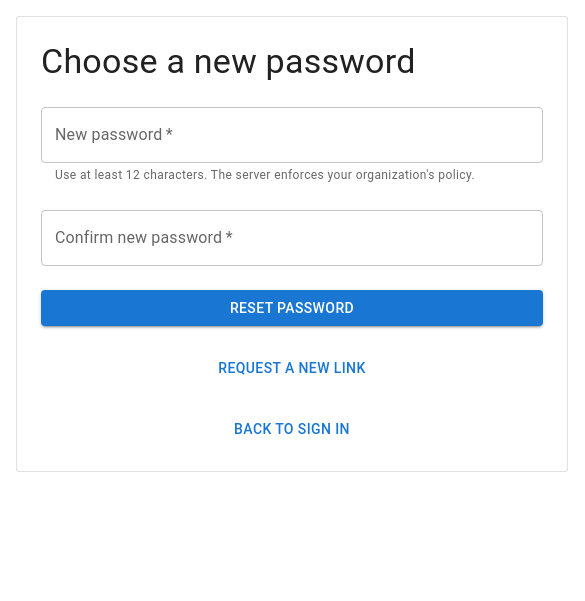
Test: PRD-02-TC-06/PRD-60-TC-07 recovery acknowledgment safety › password reset preserves recoverable details after a malformed success
The image size is (585, 601).
Type "new-correct-horse-battery" into the password field labelled "New password *" at x=292, y=135, box [41,107,543,163]
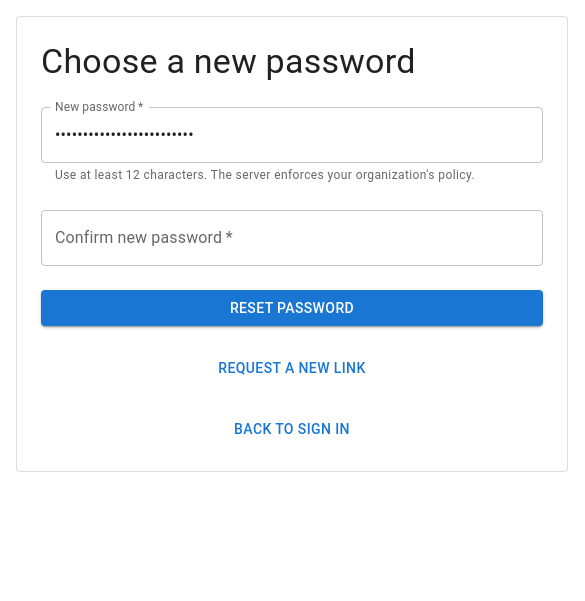
Type "new-correct-horse-battery" into the password field labelled "Confirm new password *" at x=292, y=238, box [41,210,543,266]
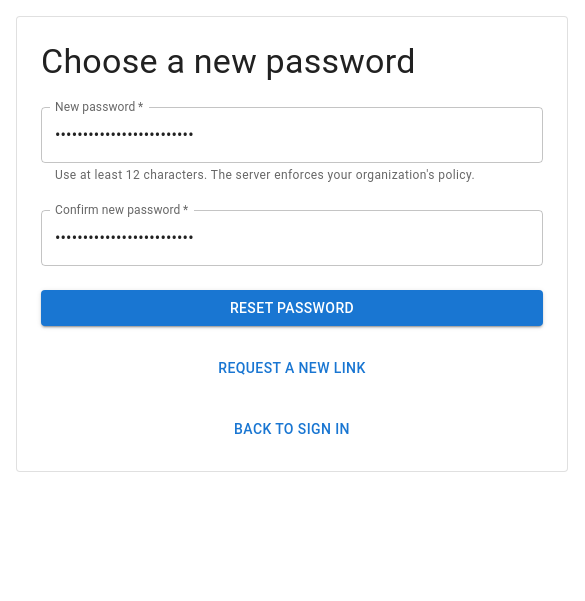
Submit the form named "Reset password", box [41,41,543,447]
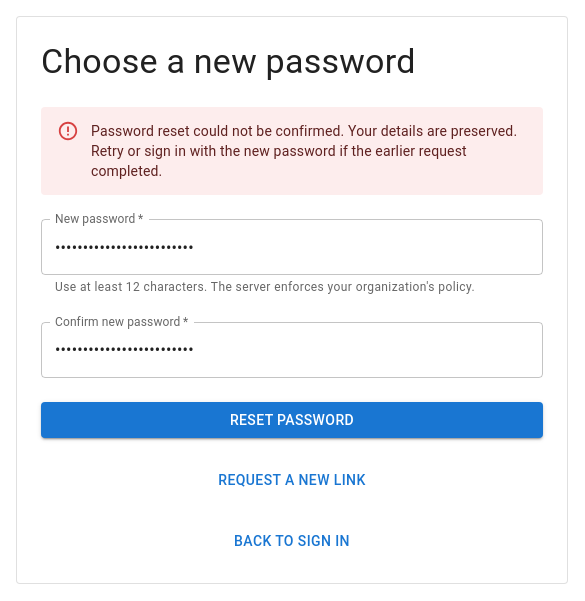
Result: the message is shown at [41,107,543,195]
